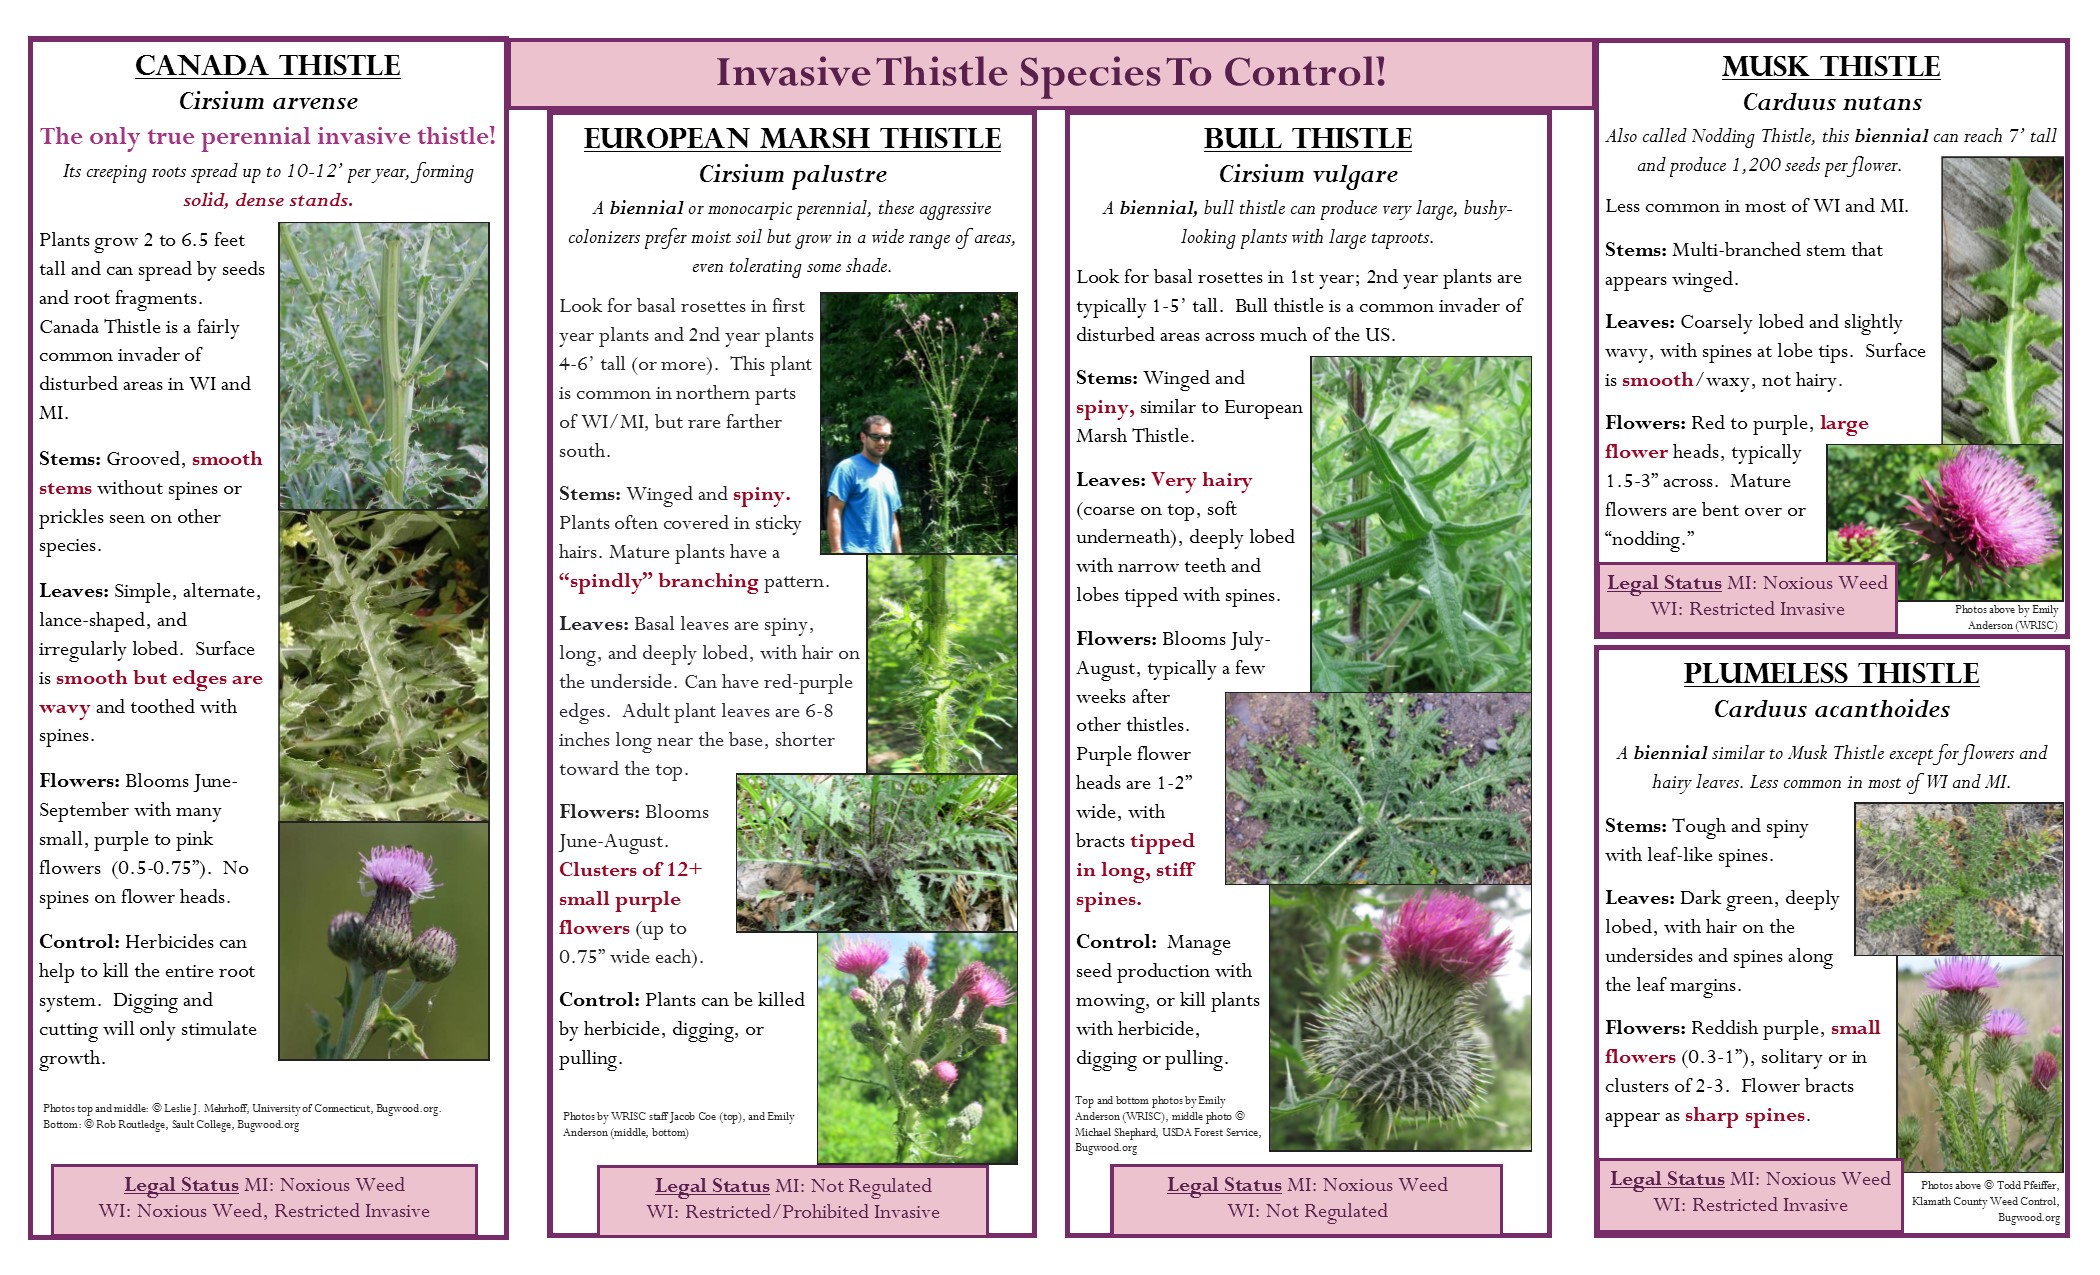thistle: (1317, 889, 1495, 1123), (1902, 448, 2061, 607), (358, 843, 426, 970), (1912, 961, 1999, 1039), (834, 943, 904, 1017), (1972, 1009, 2025, 1075), (955, 960, 997, 1038), (916, 1069, 966, 1111)
